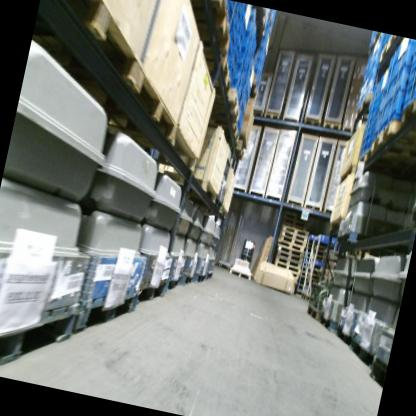pallet: (29, 0, 153, 84), (84, 60, 190, 150), (0, 289, 82, 387), (66, 274, 141, 350), (181, 0, 238, 61), (355, 145, 416, 183), (371, 116, 416, 165), (204, 81, 246, 122), (198, 57, 237, 98), (135, 273, 168, 310), (398, 69, 416, 132), (344, 335, 376, 368), (182, 190, 226, 213), (204, 116, 242, 141), (242, 5, 270, 38), (339, 228, 374, 253), (354, 92, 379, 124), (378, 34, 401, 67), (227, 259, 255, 283), (367, 358, 387, 387), (162, 270, 184, 295), (316, 312, 338, 333), (333, 325, 353, 348), (228, 137, 247, 159), (320, 115, 343, 133), (279, 222, 307, 236), (367, 30, 382, 56), (280, 228, 308, 241), (278, 237, 305, 249), (276, 243, 303, 255), (274, 255, 301, 267), (191, 268, 207, 288), (304, 302, 321, 320), (178, 268, 194, 287), (279, 234, 306, 245), (276, 249, 302, 260), (302, 116, 321, 131), (406, 198, 416, 226), (345, 245, 362, 261), (274, 261, 301, 271), (263, 13, 275, 35), (250, 76, 260, 99), (319, 258, 337, 270), (263, 109, 280, 121), (321, 246, 337, 257), (322, 254, 336, 264), (321, 267, 335, 277), (320, 274, 332, 285), (254, 107, 265, 117), (204, 271, 213, 283), (299, 291, 308, 299), (291, 272, 299, 280)
small_load_carrier: (381, 86, 407, 131), (388, 62, 416, 103), (393, 43, 416, 82), (400, 70, 416, 114), (394, 37, 416, 66), (371, 107, 390, 137), (375, 85, 392, 118), (404, 51, 416, 89), (227, 16, 240, 48), (223, 32, 238, 58), (241, 52, 254, 80), (382, 64, 396, 89), (237, 35, 252, 56), (245, 35, 257, 59), (233, 4, 246, 26), (236, 52, 248, 74), (230, 73, 242, 91), (229, 54, 239, 75), (232, 41, 243, 59), (410, 40, 416, 69), (235, 30, 244, 48), (238, 19, 247, 36), (240, 71, 247, 92)
